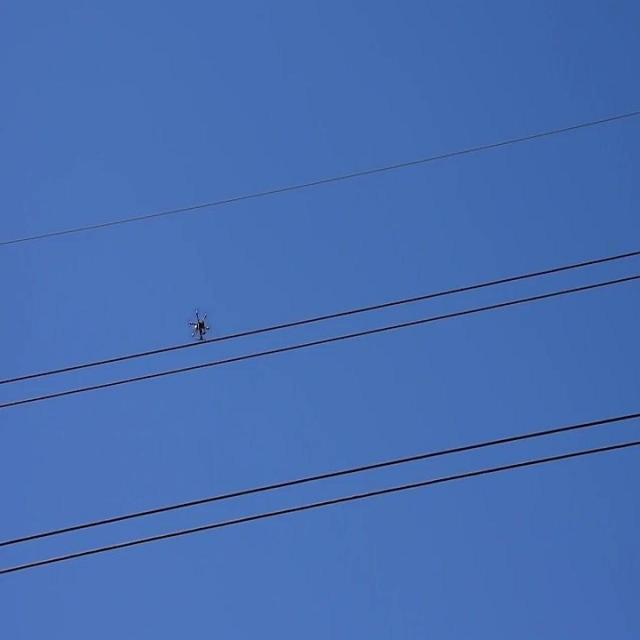UAV: (188, 306, 210, 340)
